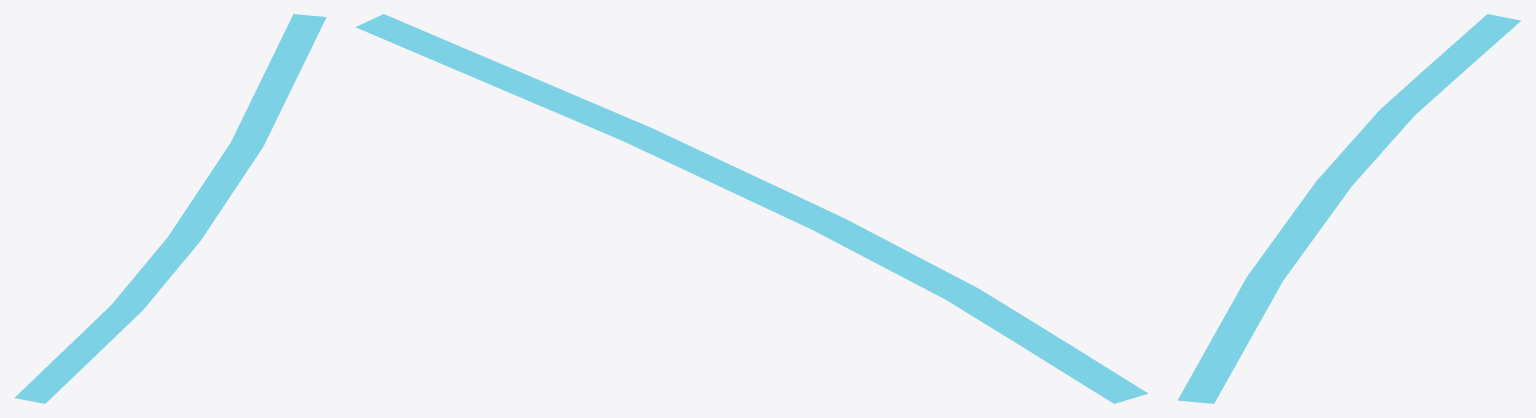
File: route_ehte_east.glb
3 renders of one model, left to right at view 1: azimuth 90°, elevation 25°; view 2: azimuth 150°, elevation 25°; view 3: azimuth 270°, elevation 25°, orthographic. The views are drawn at different scales.
Visible parts, largest first — view 1: EhteEast; view 2: EhteEast; view 3: EhteEast.
Part boxes in pixels (x1,y1,x2,y2): EhteEast: (14, 14, 326, 403); EhteEast: (355, 14, 1147, 403); EhteEast: (1177, 14, 1520, 403).
Bounding box in the file's own units: 32.07 × 0.7207 × 11.38.
